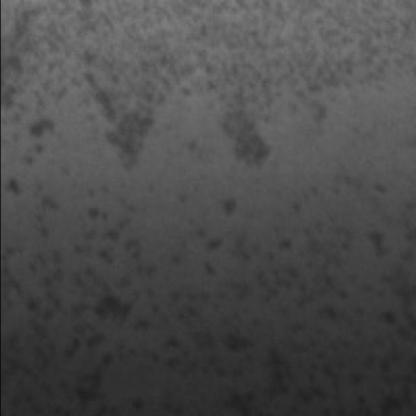pitted_surface: (2, 185, 397, 401), (2, 6, 395, 166)
